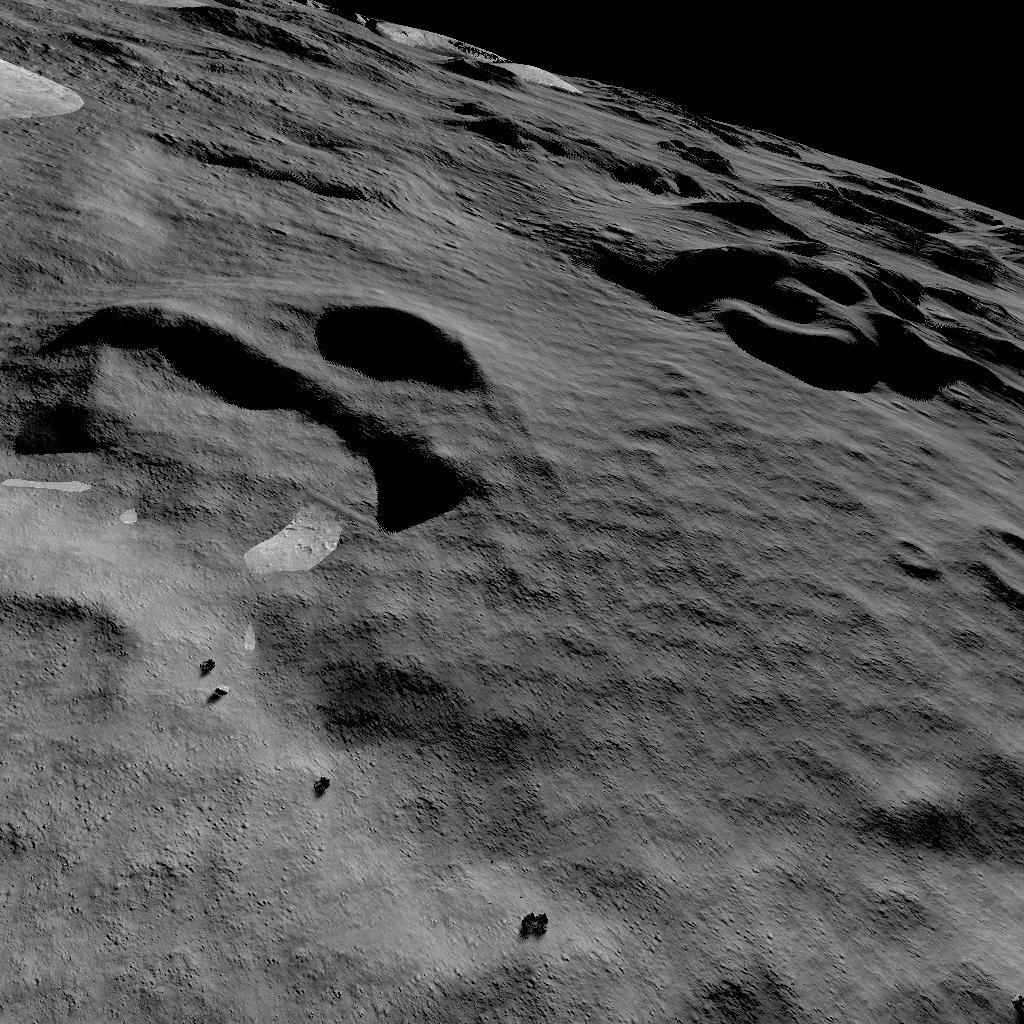Boulders: (0, 36, 111, 134)
Crater: (553, 102, 1024, 408), (0, 274, 523, 542), (0, 578, 154, 822), (877, 514, 1024, 616)
Plan surface: (553, 436, 850, 882), (0, 836, 488, 1024), (571, 892, 1024, 1024)
